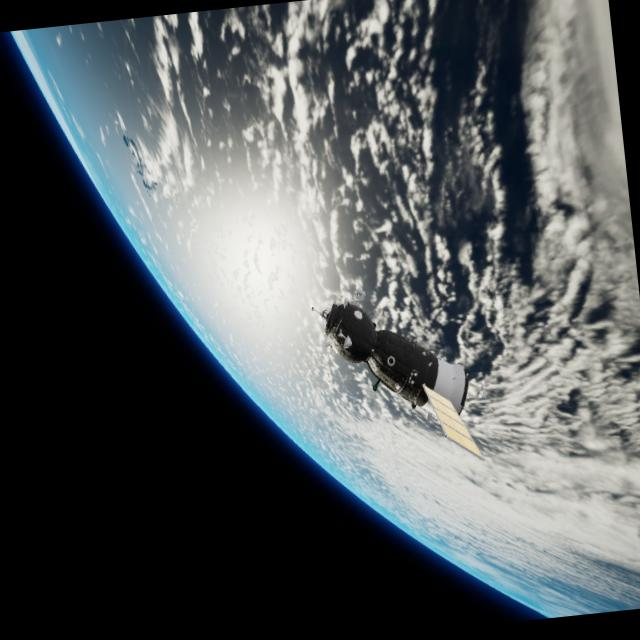Satellites revolving around earth: (7, 0, 640, 640), (310, 283, 486, 478)
